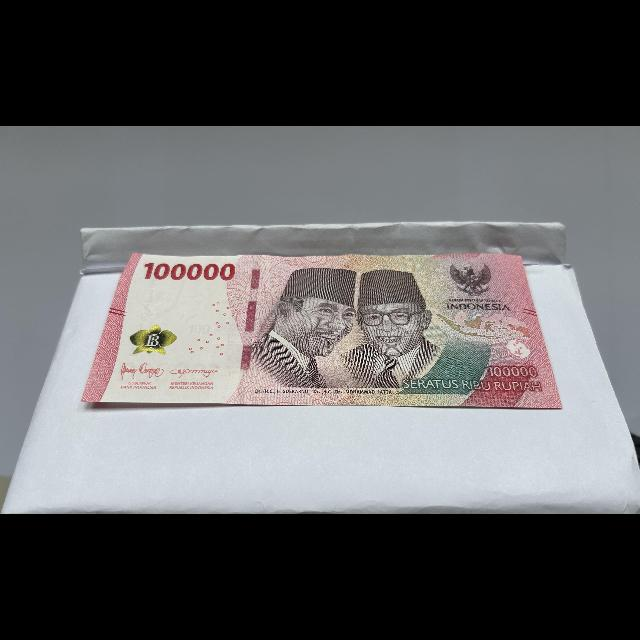Asli-100k: (75, 250, 567, 413)
Tinta-Asli-100k: (124, 322, 182, 357)
